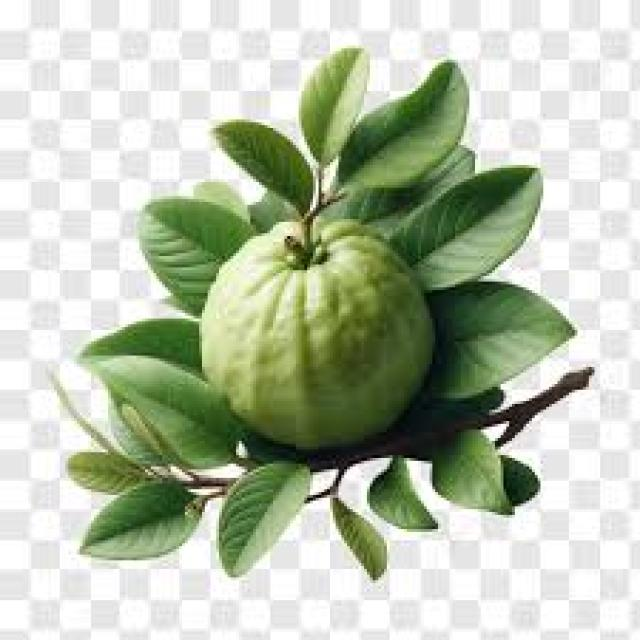Guava: (204, 229, 452, 450)
